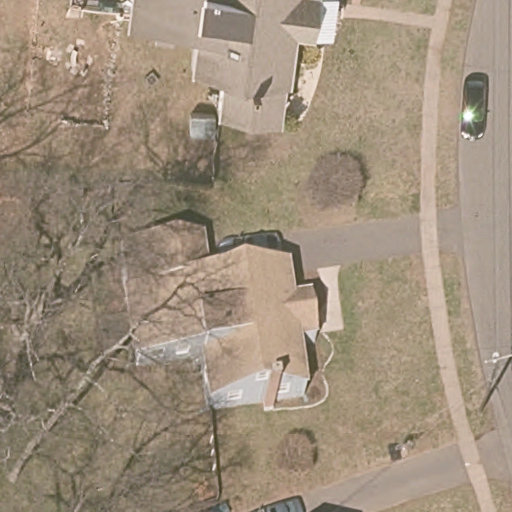DT: (480, 351, 512, 410)
